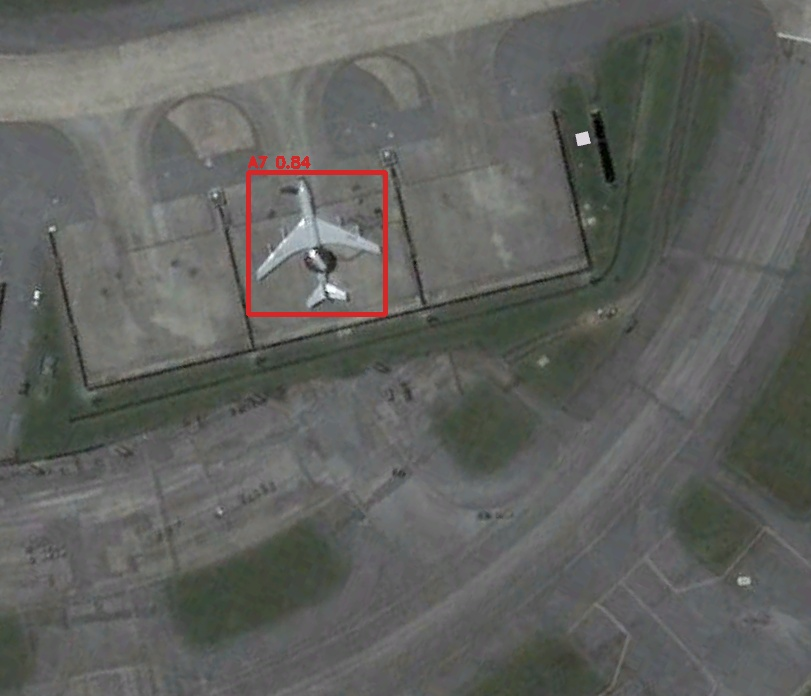A7: (248, 172, 385, 314)
